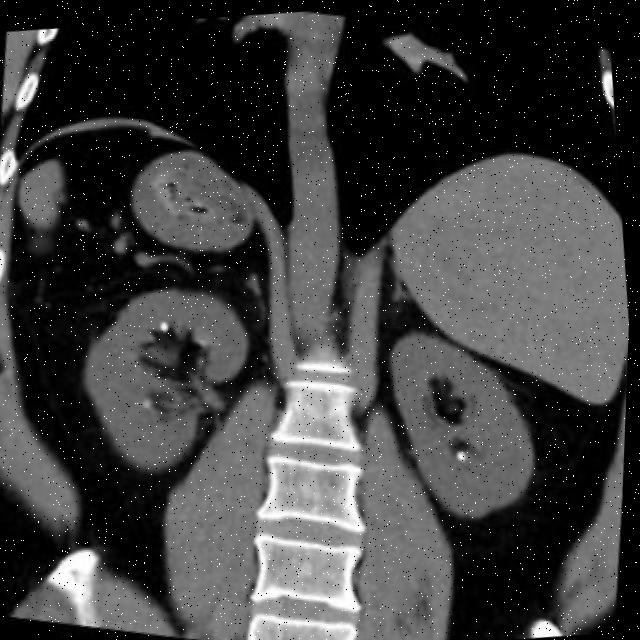Tas_Var: (452, 442, 471, 463), (156, 315, 172, 332), (141, 397, 154, 411), (142, 394, 155, 403)
